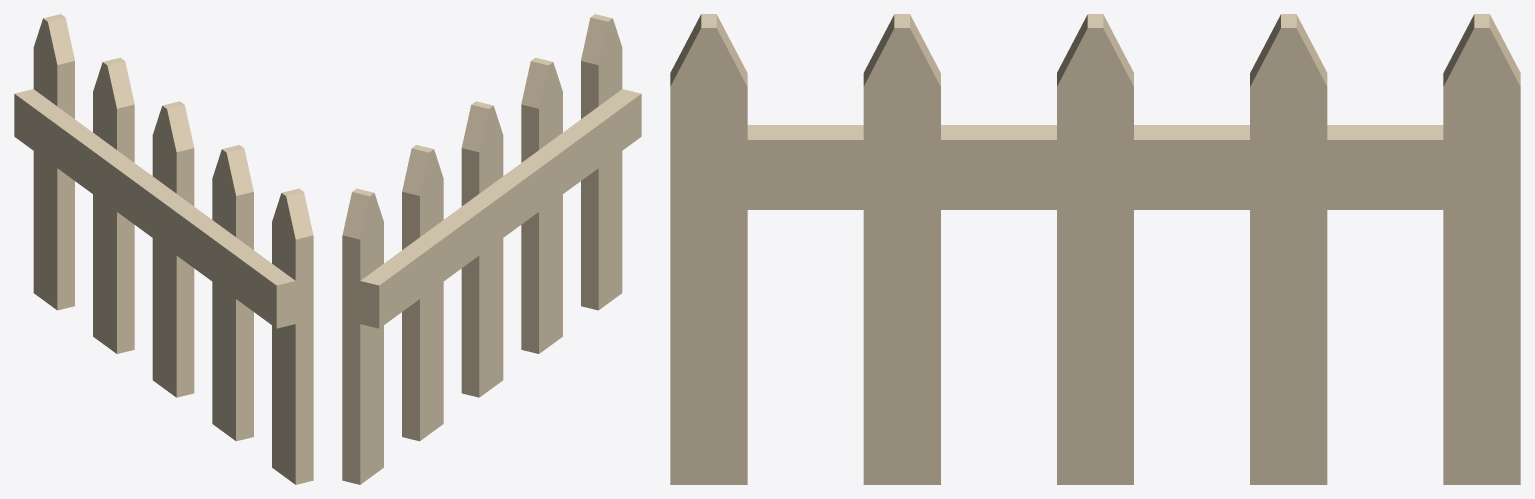
Rendered from obj_Fence.fbx.
3 views of the same model, side by side, from view 1: azimuth 30°, elevation 25°; view 2: azimuth 150°, elevation 25°; view 3: azimuth 270°, elevation 25° (orthographic). The views are drawn at different scales.
Visible parts, largest first — view 1: Cube; view 2: Cube; view 3: Cube.
Part boxes in pixels (bbox=[...]): Cube: bbox=[14, 14, 313, 484]; Cube: bbox=[342, 14, 641, 484]; Cube: bbox=[670, 14, 1520, 484].
Bounding box in the file's own units: 16.92 × 124 × 208.
